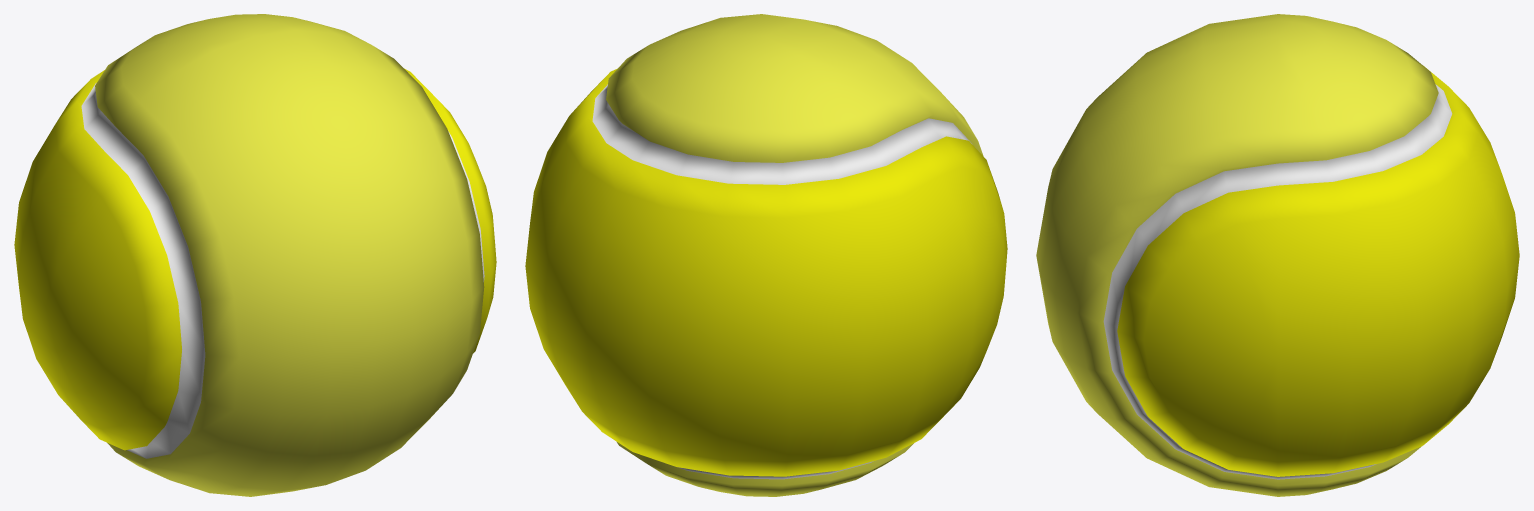
File: Ball.fbx
The picture shows the model from 3 angles, left to right: view 1: azimuth 30°, elevation 25°; view 2: azimuth 150°, elevation 25°; view 3: azimuth 270°, elevation 25°; orthographic projection.
Visible parts, largest first — view 1: Tennisball; view 2: Tennisball; view 3: Tennisball.
Part boxes in pixels (<box>): Tennisball: <box>14,14,496,496</box>; Tennisball: <box>525,14,1007,496</box>; Tennisball: <box>1036,14,1519,496</box>.
Bounding box in the file's own units: 10 × 10 × 10.
